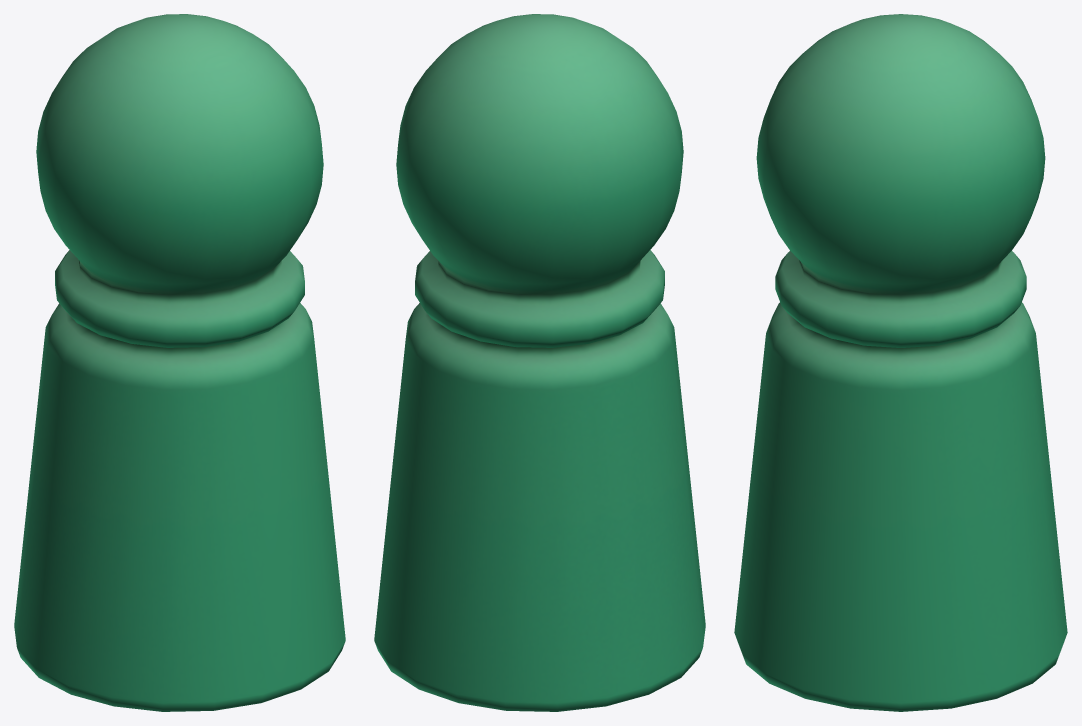
Rendered from YutNori_PieceGreen.fbx.
The picture shows the model from 3 angles, left to right: view 1: azimuth 30°, elevation 25°; view 2: azimuth 150°, elevation 25°; view 3: azimuth 270°, elevation 25°; orthographic projection.
Visible parts, largest first — view 1: YutNori_PieceGreen; view 2: YutNori_PieceGreen; view 3: YutNori_PieceGreen.
Part boxes in pixels (x1,y1,x2,y2): YutNori_PieceGreen: (14,14,345,711); YutNori_PieceGreen: (374,14,705,711); YutNori_PieceGreen: (734,14,1067,711).
Bounding box in the file's own units: 2.55 × 5.23 × 2.55.
